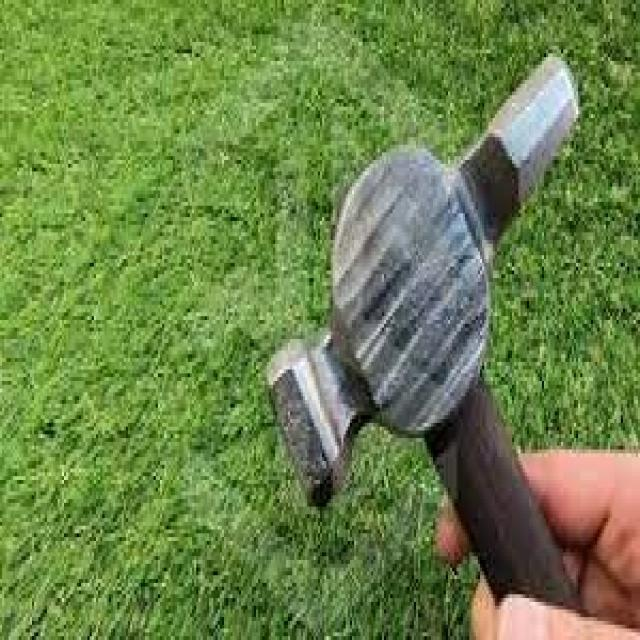hammer: (258, 42, 587, 640)
